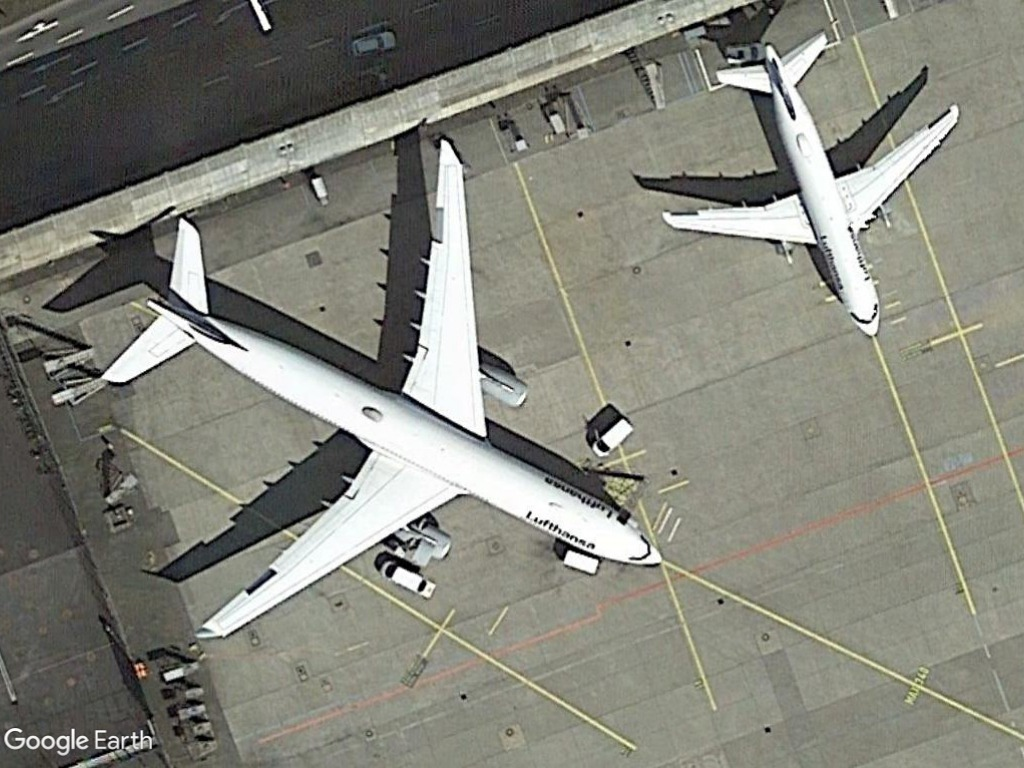airliner: (79, 132, 666, 639), (654, 23, 965, 361)
van: (588, 414, 638, 460)
